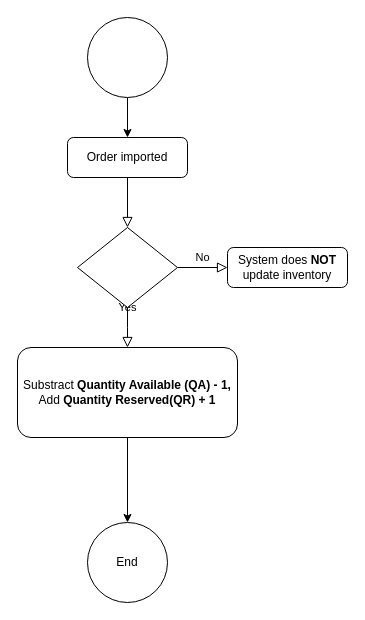
The diagram is 365 pixels wide and 620 high, and some of its shapes have lost their labels. The centre of each missing label's shape, as x and y in pixels:
"Admin Confirmed?" goes at point (127, 267).
"Start" goes at point (127, 57).
